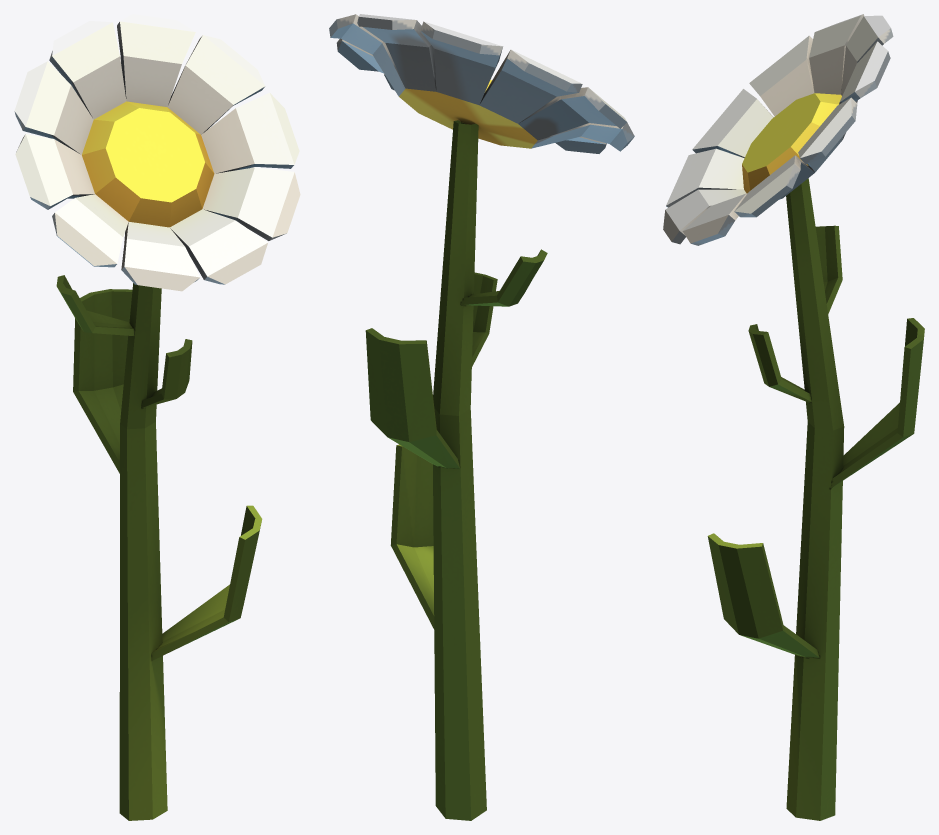
The model's file is PUSHILIN_daisy.obj.
The picture shows the model from 3 angles, left to right: view 1: azimuth 30°, elevation 25°; view 2: azimuth 150°, elevation 25°; view 3: azimuth 270°, elevation 25°; orthographic projection. The views are drawn at different scales.
Parts seen in each view (by area): view 1: daisy; view 2: daisy; view 3: daisy.
Boxes of the visible parts, left/top/right/bottom form: daisy: left=14, top=14, right=300, bottom=820; daisy: left=329, top=14, right=634, bottom=820; daisy: left=663, top=14, right=924, bottom=820.
Size of the model in its own units: 0.756 by 2.1 by 0.6391.
Materials: 1 (1 with a texture image).
